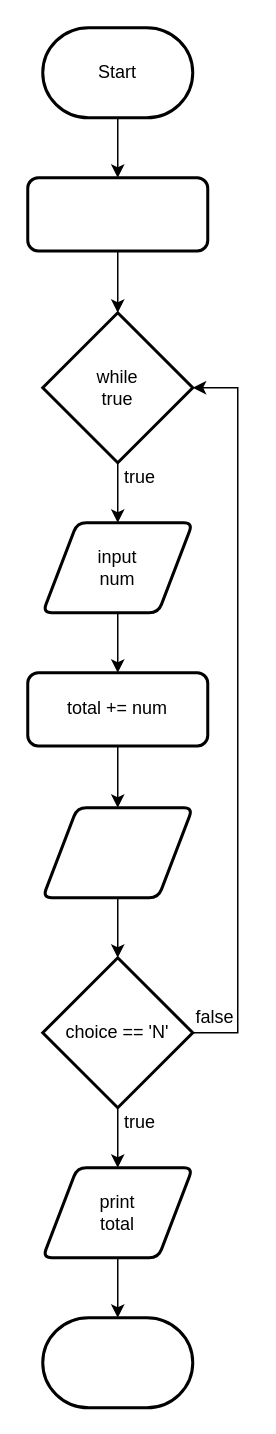
Image size: 276x1434. Some labels were removed from this diagram. The centre of each missing label's shape, as x and y in pixels:
counter = 1 total = 0: the point at 117,214
End: the point at 117,1362
input choice: the point at 117,852
